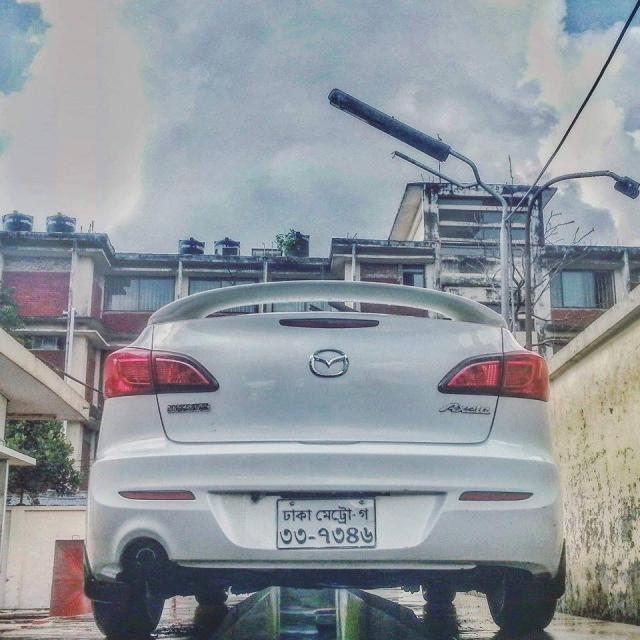numberplate: (274, 495, 377, 550)
